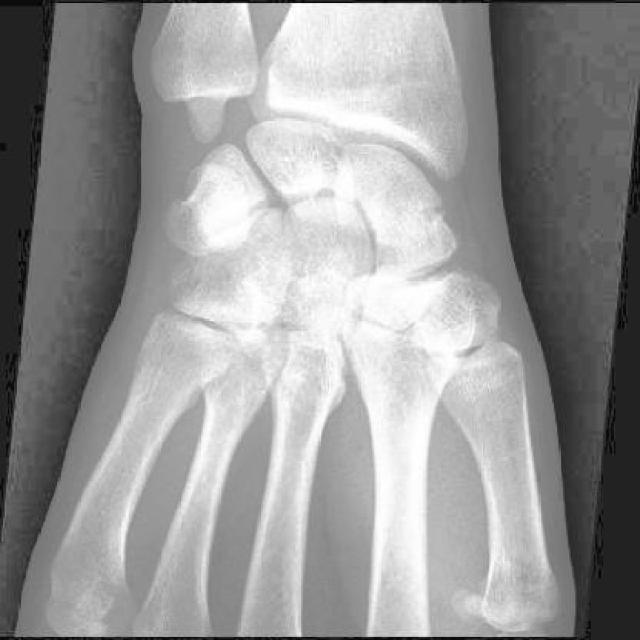Fracture: (370, 200, 456, 246)
